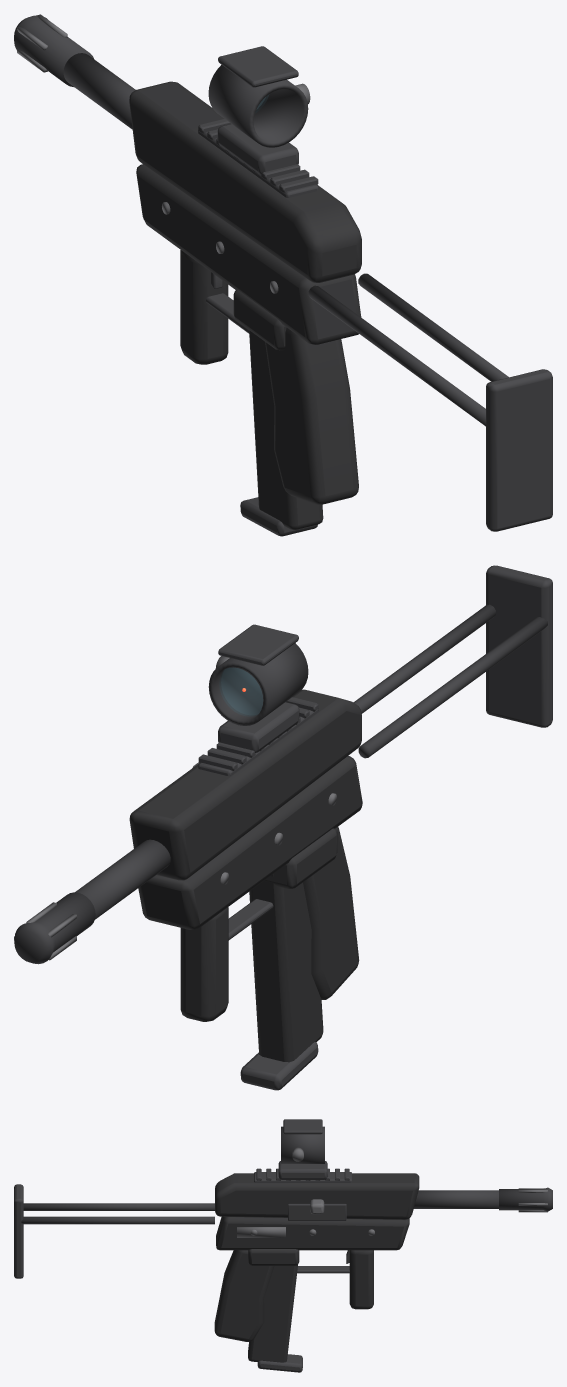
The picture shows the model from 3 angles, top to bottom: view 1: azimuth 30°, elevation 25°; view 2: azimuth 150°, elevation 25°; view 3: azimuth 270°, elevation 25°; orthographic projection. The views are drawn at different scales.
Parts seen in each view (by area): view 1: body, mag; view 2: body, mag; view 3: body, mag.
Part boxes in pixels (x1,y1,x2,y2): body: (14,14,552,531); mag: (240,330,323,536); body: (14,565,552,1021); mag: (240,874,323,1090); body: (14,1119,552,1341); mag: (248,1265,302,1372).
Bounding box in the file's own units: 0.0605 × 0.3189 × 0.64.
